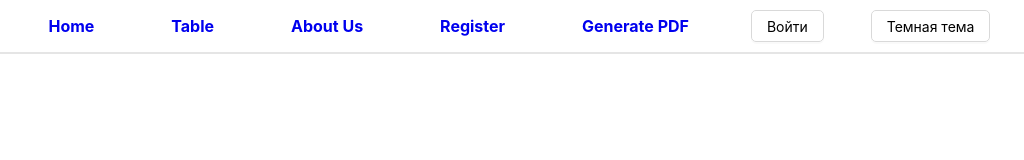
Test: Header › Кнопка авторизации
Click the button with test id "auth" at (787, 26), box top-left (751, 10), bottom-right (824, 42)
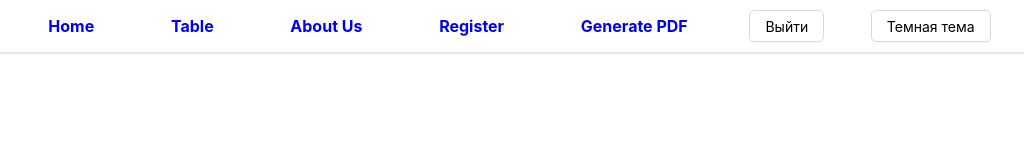
Check: the button with test id "auth" reads "Выйти", box top-left (749, 10), bottom-right (824, 42)
